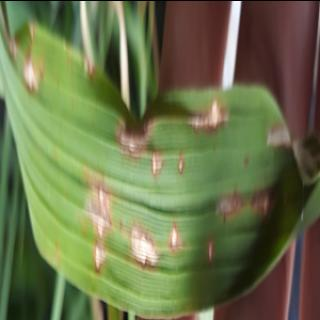Blast: (111, 99, 191, 182), (5, 15, 48, 98), (83, 170, 113, 288), (125, 208, 167, 273), (186, 96, 236, 138), (216, 190, 282, 218), (202, 227, 232, 273)
